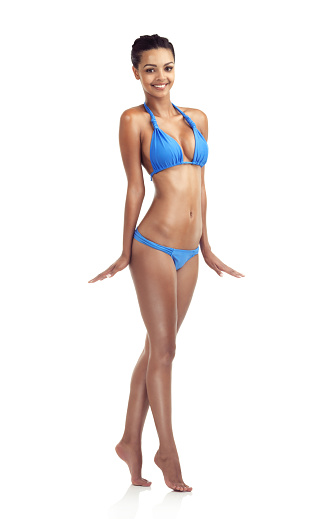em pe: (94, 21, 229, 495)
